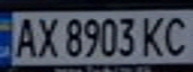0: (100, 15, 121, 58)
3: (115, 14, 139, 58)
8: (60, 15, 84, 58)
9: (81, 15, 103, 58)
A: (9, 14, 39, 58)
C: (160, 12, 193, 57)
K: (136, 12, 172, 59)
X: (33, 14, 60, 58)
